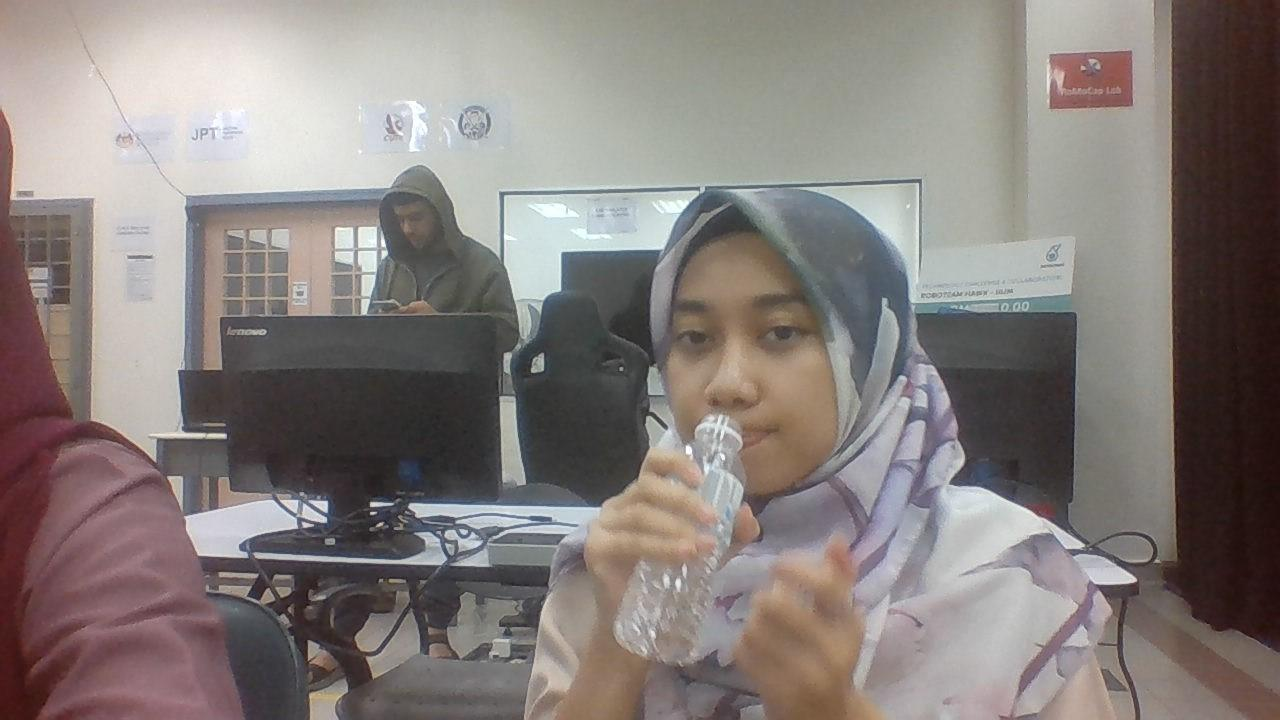Drinking: (584, 232, 836, 666)
